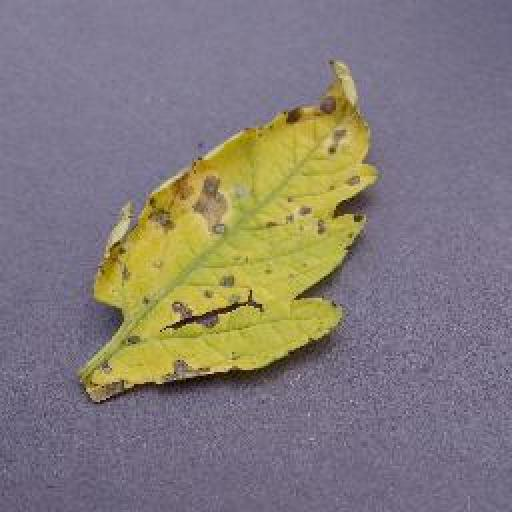disease_tomato: (87, 53, 379, 407)
